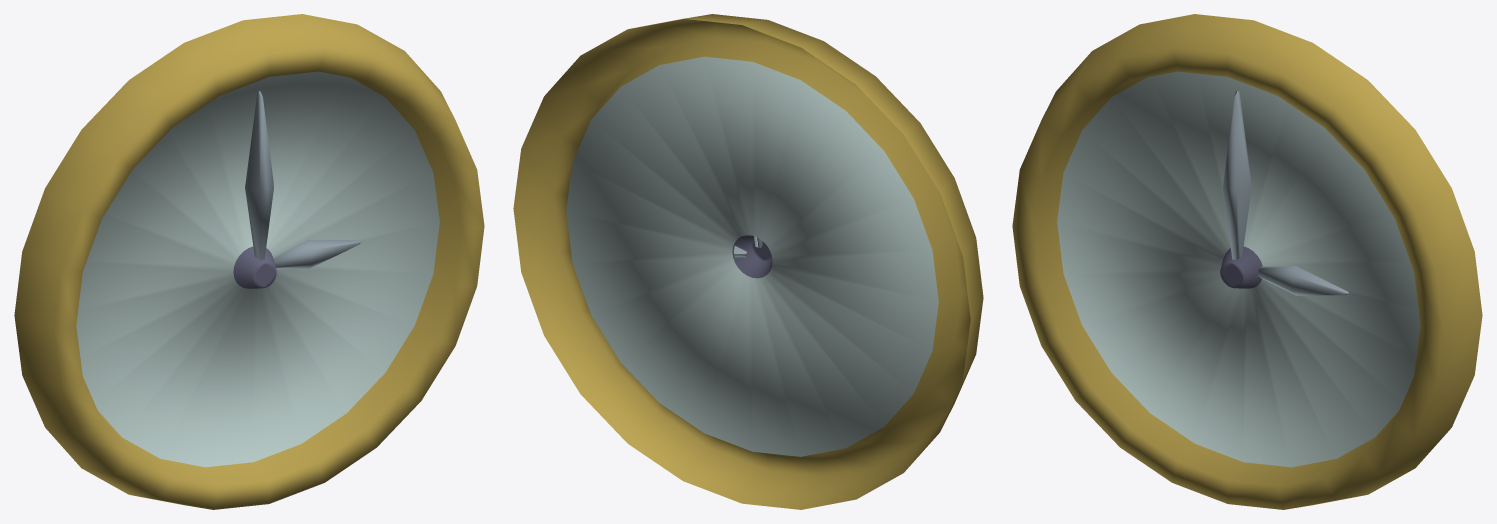
File: Clock.fbx
3 views of the same model, side by side, from view 1: azimuth 30°, elevation 25°; view 2: azimuth 150°, elevation 25°; view 3: azimuth 330°, elevation 25° (orthographic).
Visible parts, largest first — view 1: Clock_Big_Base, Clock_Big_BigHand, Clock_Big_SmallHand; view 2: Clock_Big_Base; view 3: Clock_Big_Base, Clock_Big_BigHand, Clock_Big_SmallHand.
Part boxes in pixels (box(x1,y1,x2,y2)): Clock_Big_Base: box(14, 14, 484, 509); Clock_Big_BigHand: box(245, 90, 273, 260); Clock_Big_SmallHand: box(273, 240, 360, 269); Clock_Big_Base: box(513, 14, 983, 509); Clock_Big_Base: box(1012, 14, 1482, 509); Clock_Big_BigHand: box(1223, 90, 1251, 260); Clock_Big_SmallHand: box(1258, 266, 1348, 295).
Size of the model in its own units: 1719 by 1719 by 170.
